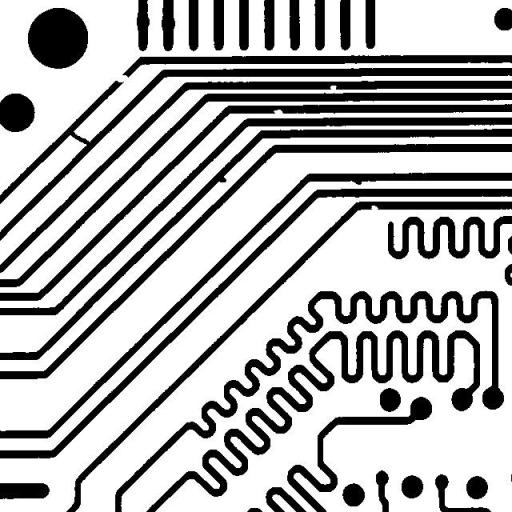mousebite: (266, 102, 291, 122), (322, 78, 344, 98), (363, 198, 386, 216)
open: (106, 67, 136, 90)
short: (61, 124, 102, 154)
spur: (343, 168, 370, 192), (211, 168, 234, 190)
